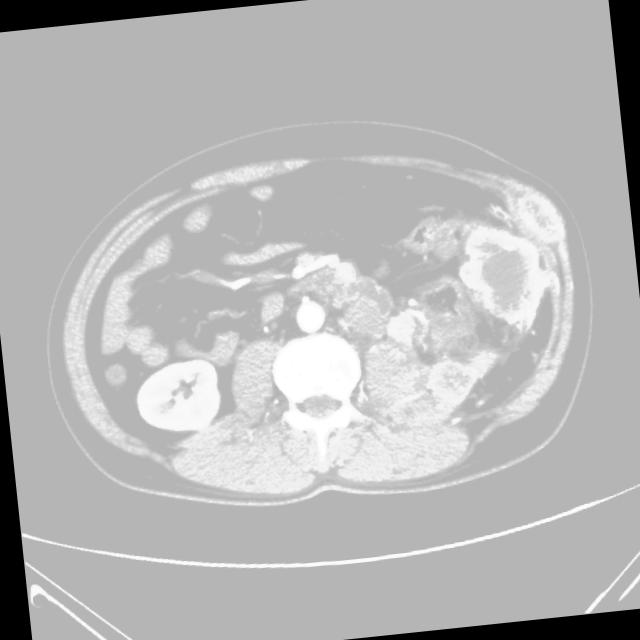TUMOR: (16, 185, 571, 522)
